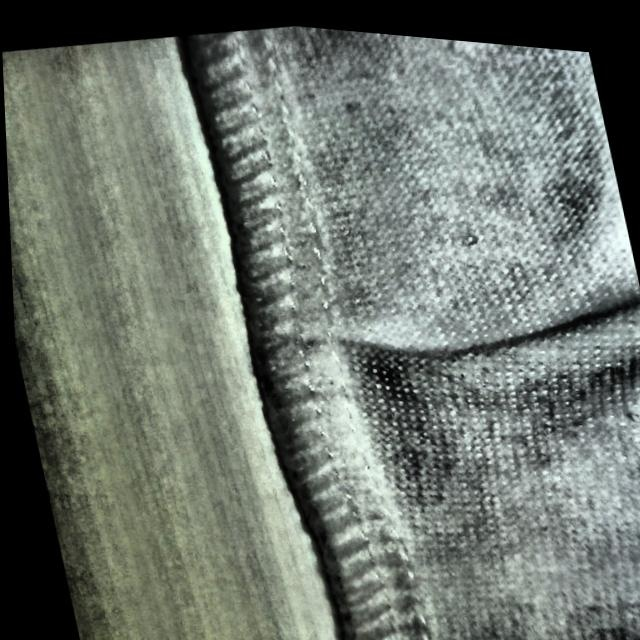seam: (226, 233, 602, 484)
